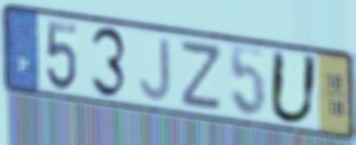3: (86, 24, 130, 101)
5: (225, 45, 269, 121), (44, 19, 79, 91)
J: (138, 36, 173, 103)
U: (266, 47, 321, 127)
Z: (178, 40, 224, 114)
